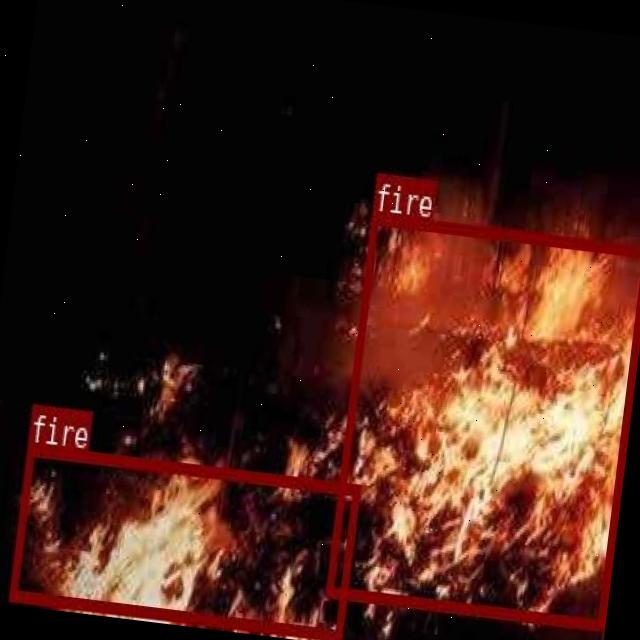fire: (323, 211, 640, 626), (8, 441, 360, 640)
